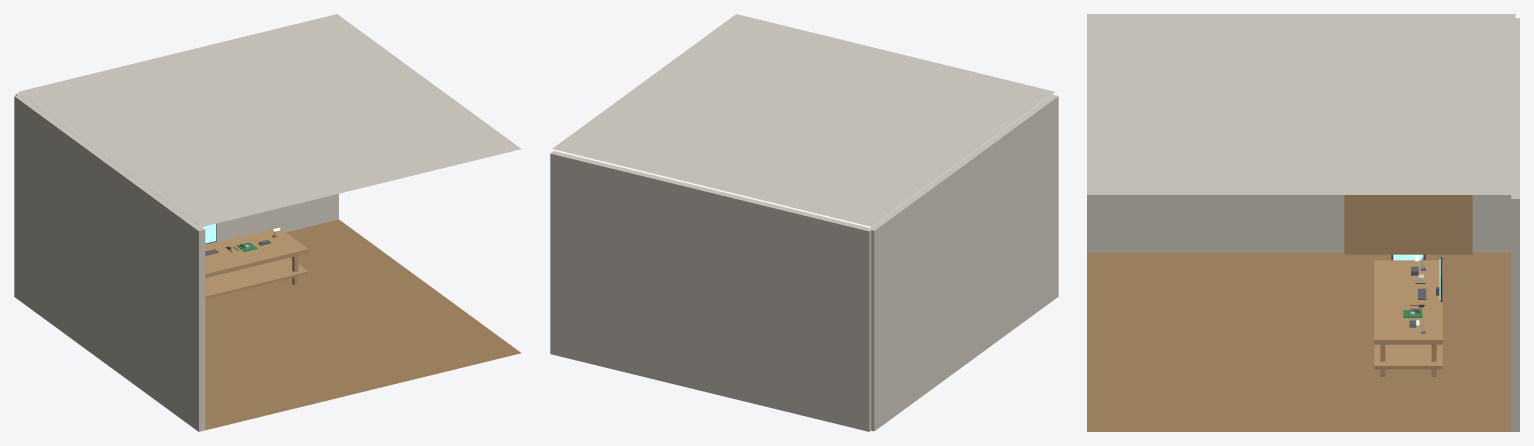
The model's file is workspace.fbx.
3 views of the same model, side by side, from view 1: azimuth 30°, elevation 25°; view 2: azimuth 150°, elevation 25°; view 3: azimuth 270°, elevation 25° (orthographic). The views are drawn at different scales.
Parts seen in each view (by area): view 1: Ceiling, Wall_Left, Floor, Wall_Back, Bench_Top, Bench_Shelf; view 2: Wall_Back, Ceiling, Wall_Left; view 3: Ceiling, Floor, Wall_Left, Shelf_Right_Panel, Bench_Top, Wall_Back, Bench_Shelf.
Boxes of the visible parts, x1=… form: Ceiling: x1=18, y1=14, x2=521, y2=226; Wall_Left: x1=14, y1=95, x2=205, y2=431; Floor: x1=205, y1=219, x2=521, y2=430; Wall_Back: x1=15, y1=93, x2=338, y2=245; Bench_Top: x1=205, y1=227, x2=308, y2=277; Bench_Shelf: x1=205, y1=257, x2=308, y2=299; Wall_Back: x1=550, y1=151, x2=872, y2=431; Ceiling: x1=552, y1=14, x2=1054, y2=226; Wall_Left: x1=870, y1=94, x2=1058, y2=431; Ceiling: x1=1087, y1=14, x2=1515, y2=194; Floor: x1=1087, y1=252, x2=1511, y2=431; Wall_Left: x1=1087, y1=195, x2=1511, y2=252; Shelf_Right_Panel: x1=1344, y1=195, x2=1472, y2=254; Bench_Top: x1=1374, y1=260, x2=1442, y2=344; Wall_Back: x1=1511, y1=18, x2=1519, y2=431; Bench_Shelf: x1=1374, y1=344, x2=1442, y2=369.
Size of the model in its own units: 1010 by 610 by 1010.
